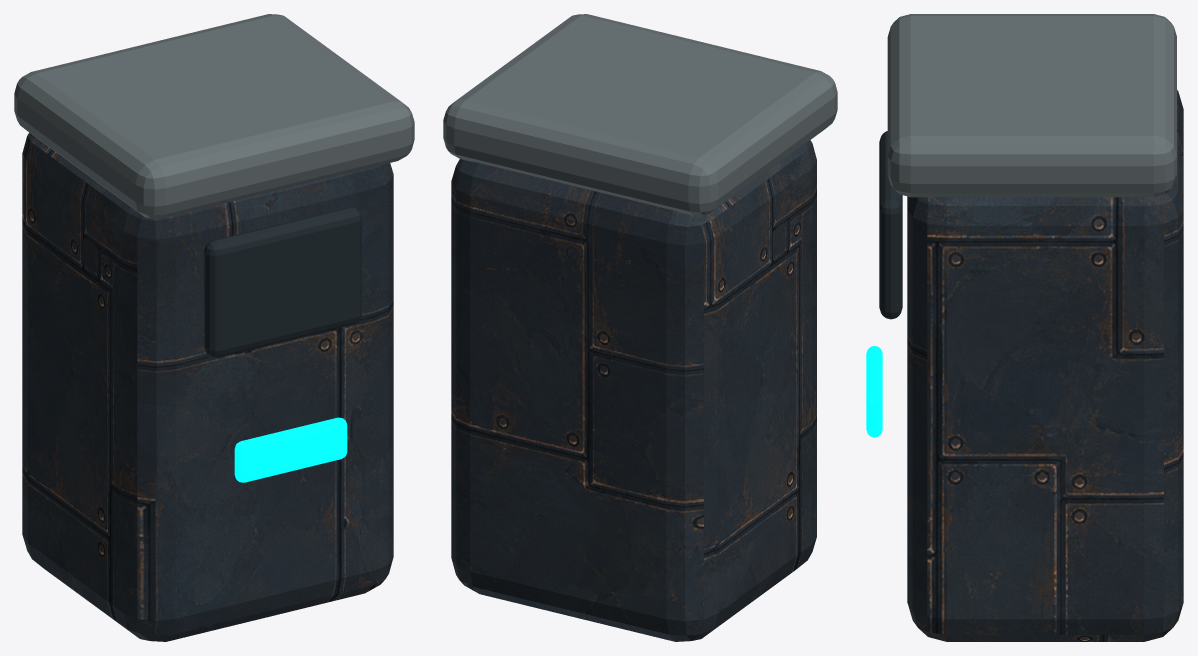
Rendered from APT_TrashCan_Smart_Teal.glb.
3 renders of one model, left to right at view 1: azimuth 30°, elevation 25°; view 2: azimuth 150°, elevation 25°; view 3: azimuth 270°, elevation 25°, orthographic. The views are drawn at different scales.
Visible parts, largest first — view 1: TrashSmart_Body, TrashSmart_Lid, TrashSmart_Opening, TrashSmart_Status; view 2: TrashSmart_Body, TrashSmart_Lid; view 3: TrashSmart_Body, TrashSmart_Lid, TrashSmart_Opening, TrashSmart_Status.
Part boxes in pixels (x1,y1,x2,y2): TrashSmart_Body: (22, 132, 393, 641); TrashSmart_Lid: (14, 14, 414, 218); TrashSmart_Opening: (204, 207, 361, 357); TrashSmart_Status: (234, 417, 347, 482); TrashSmart_Body: (451, 140, 816, 641); TrashSmart_Lid: (443, 14, 837, 215); TrashSmart_Body: (907, 90, 1183, 641); TrashSmart_Lid: (887, 14, 1176, 197); TrashSmart_Opening: (879, 131, 902, 319); TrashSmart_Status: (866, 346, 882, 437).
Size of the model in its own units: 0.5 by 0.86 by 0.4825.
4 materials, 1 textured.
